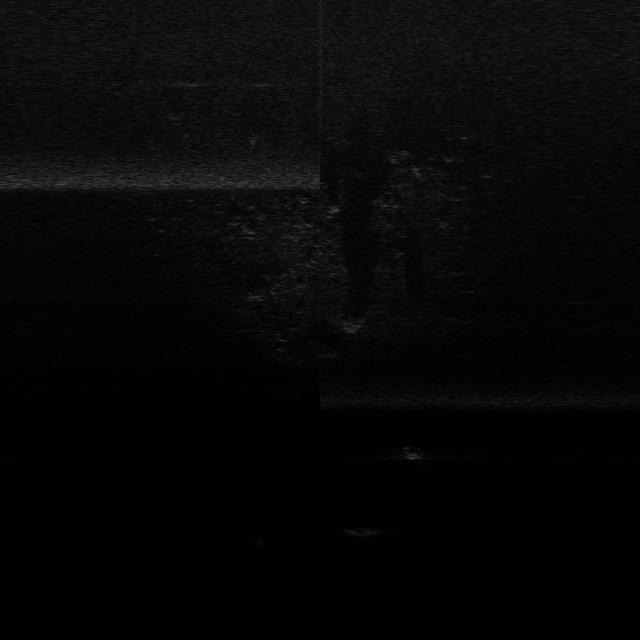cube: (341, 514, 388, 539)
square cage: (401, 442, 428, 463)
